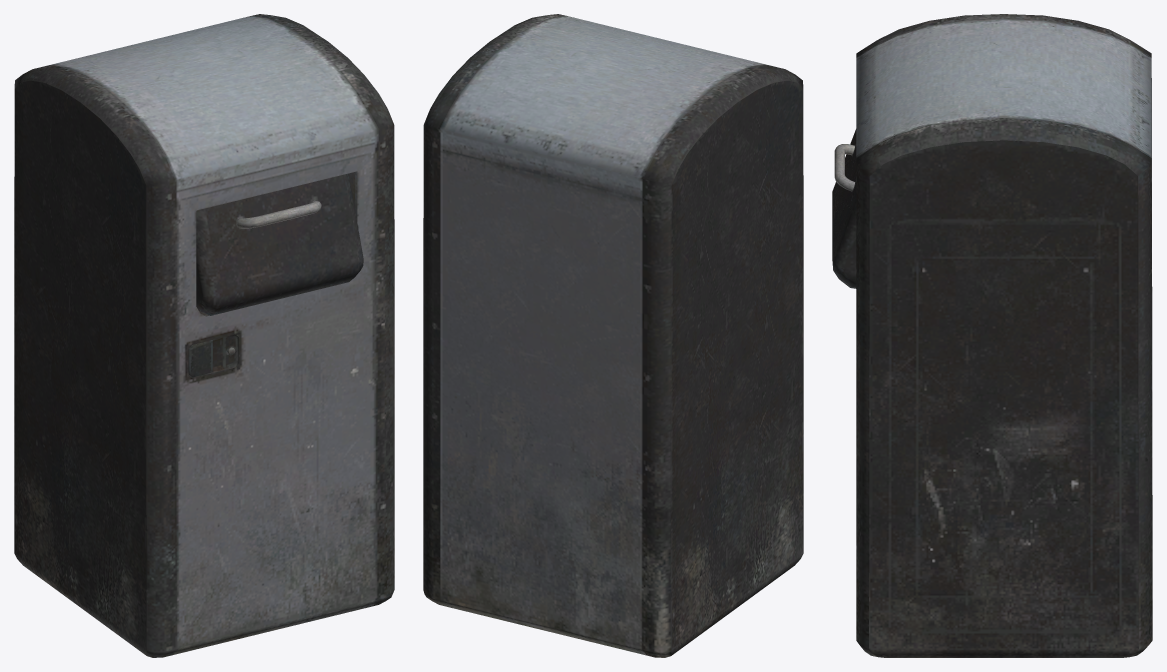
Rendered from 096_TrashBox.fbx.
3 views of the same model, side by side, from view 1: azimuth 30°, elevation 25°; view 2: azimuth 150°, elevation 25°; view 3: azimuth 270°, elevation 25° (orthographic).
Visible parts, largest first — view 1: LOD_1_Group_2_Sub_1__sm30_096_TrashBoxB01A_A_Mat, LOD_1_Group_0_Sub_1__sm30_096_TrashBoxB01A_A_Mat, LOD_1_Group_1_Sub_1__sm30_096_TrashBoxB01A_A_Mat; view 2: LOD_1_Group_2_Sub_1__sm30_096_TrashBoxB01A_A_Mat; view 3: LOD_1_Group_2_Sub_1__sm30_096_TrashBoxB01A_A_Mat, LOD_1_Group_0_Sub_1__sm30_096_TrashBoxB01A_A_Mat, LOD_1_Group_1_Sub_1__sm30_096_TrashBoxB01A_A_Mat.
Boxes of the visible parts, box(x1,y1,x2,y2) form: LOD_1_Group_2_Sub_1__sm30_096_TrashBoxB01A_A_Mat: box(14, 14, 394, 657); LOD_1_Group_0_Sub_1__sm30_096_TrashBoxB01A_A_Mat: box(196, 173, 363, 315); LOD_1_Group_1_Sub_1__sm30_096_TrashBoxB01A_A_Mat: box(227, 200, 321, 354); LOD_1_Group_2_Sub_1__sm30_096_TrashBoxB01A_A_Mat: box(423, 14, 803, 657); LOD_1_Group_2_Sub_1__sm30_096_TrashBoxB01A_A_Mat: box(856, 14, 1152, 657); LOD_1_Group_0_Sub_1__sm30_096_TrashBoxB01A_A_Mat: box(832, 129, 856, 288); LOD_1_Group_1_Sub_1__sm30_096_TrashBoxB01A_A_Mat: box(834, 144, 854, 191).
Bounding box in the file's own units: 0.5461 × 1.1 × 0.5987.
